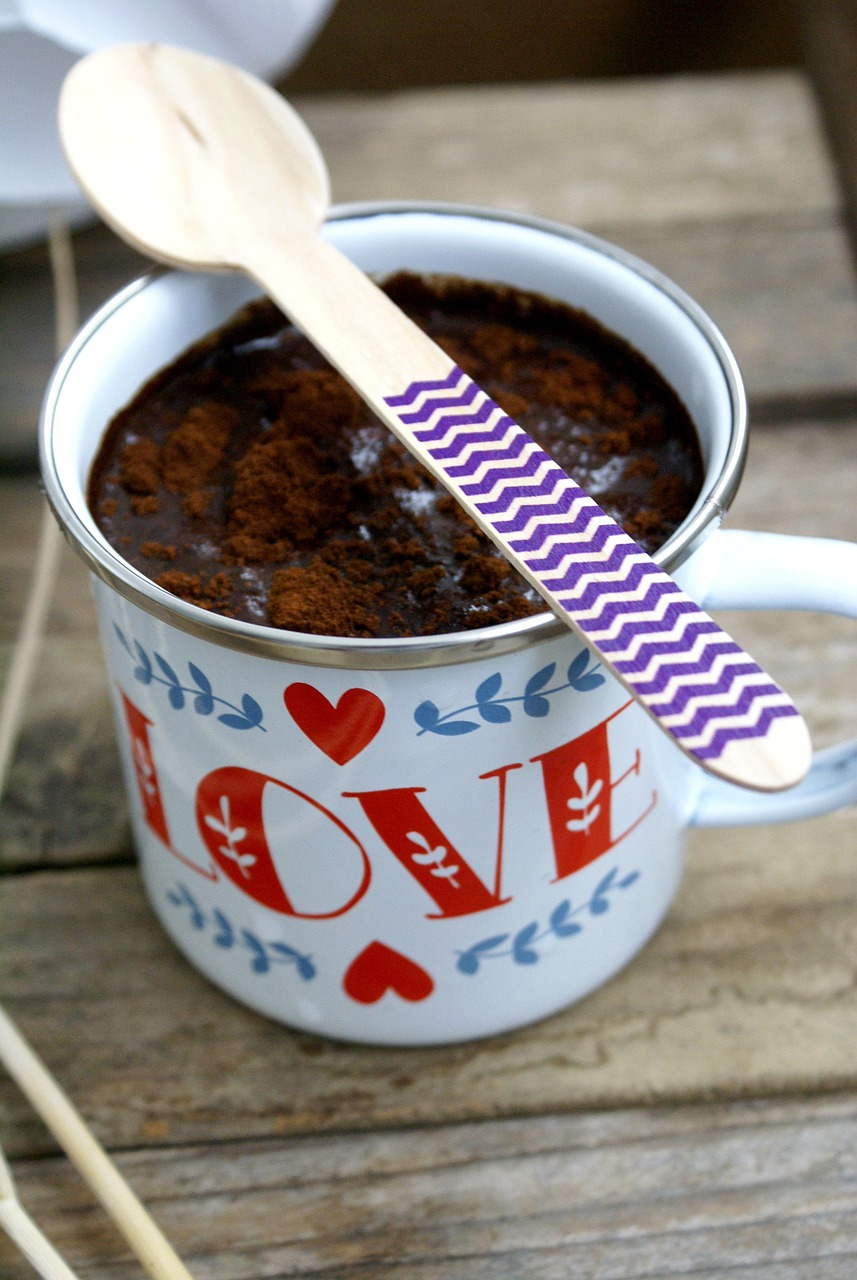mug: (23, 185, 857, 1027)
